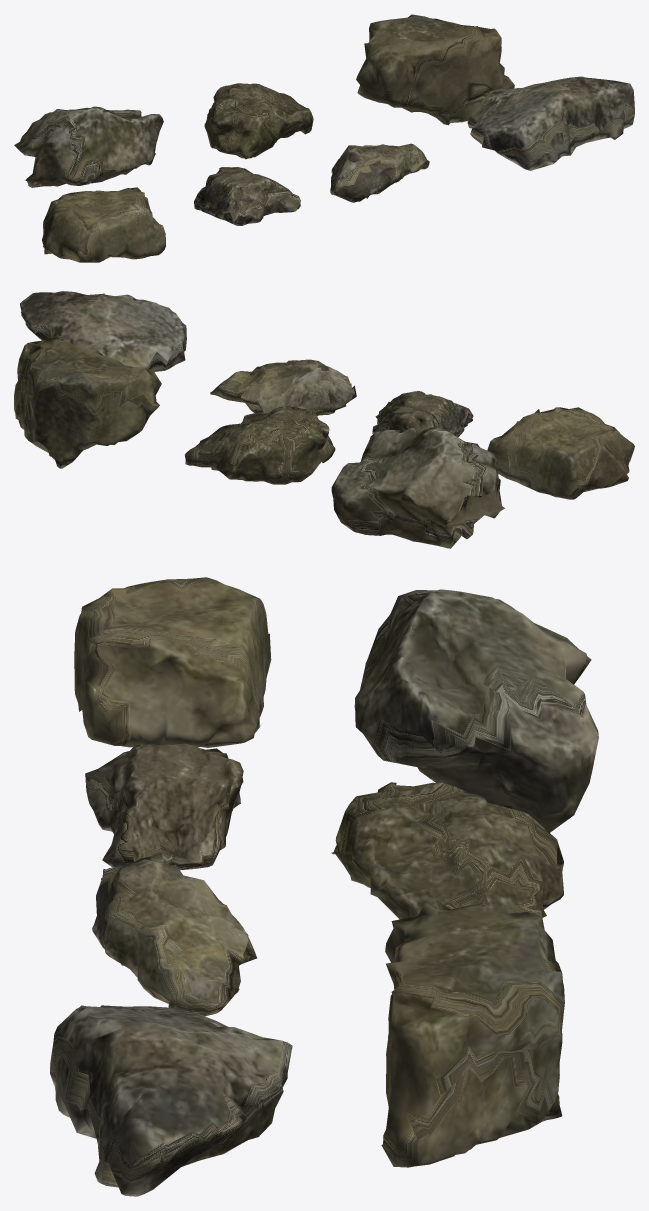
File: rock_moss_set_02_lod1.glb
3 views of the same model, one above another, from view 1: azimuth 30°, elevation 25°; view 2: azimuth 150°, elevation 25°; view 3: azimuth 270°, elevation 25° (orthographic). The views are drawn at different scales.
Visible parts, largest first — view 1: rock_moss_set_02_rock08; view 2: rock_moss_set_02_rock08; view 3: rock_moss_set_02_rock08.
Boxes of the visible parts, left/top/right/bottom form: rock_moss_set_02_rock08: left=14, top=14, right=634, bottom=262; rock_moss_set_02_rock08: left=14, top=291, right=634, bottom=548; rock_moss_set_02_rock08: left=50, top=577, right=598, bottom=1196.
Size of the model in its own units: 8.27 by 1.34 by 3.36.
1 material, 1 textured.
